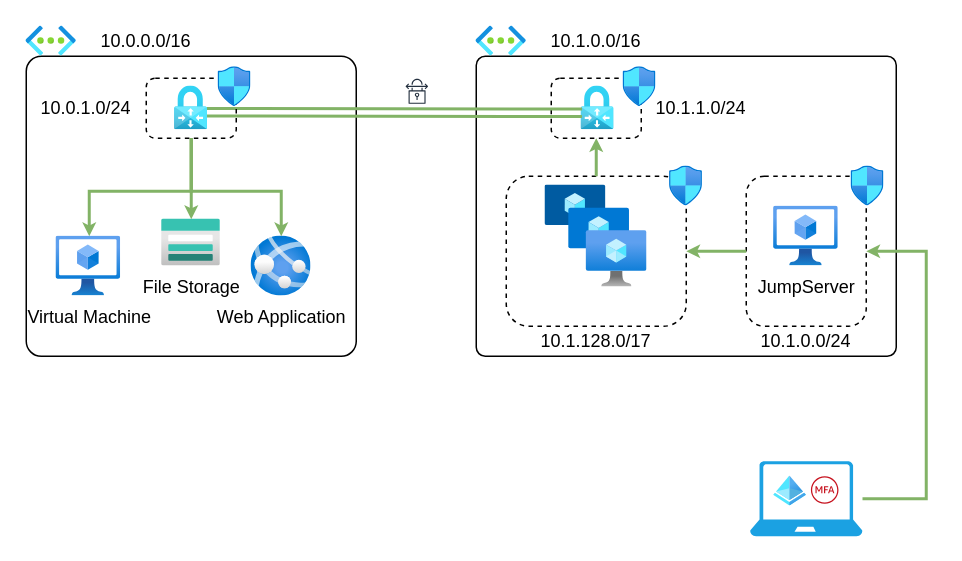
Some shapes in this 962 by 561 pixel diagram are drawn without their labels. Here are the shapes that lost their labels. From the top down, the box of each, then its label:
(400, 74, 432, 107): Site-to-Site VPN
(544, 184, 646, 286): Working Machines
